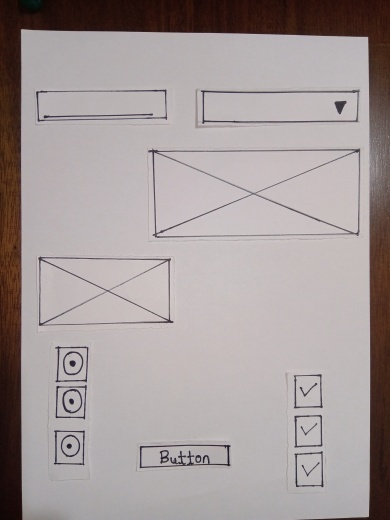button: (137, 446, 232, 470)
checkbox: (293, 374, 322, 406), (296, 454, 325, 486), (293, 414, 322, 446)
dropdown: (200, 93, 362, 120)
img: (151, 152, 360, 232), (37, 256, 173, 326)
radio: (58, 349, 88, 381), (56, 387, 86, 419), (55, 429, 85, 461)
text: (36, 90, 168, 116)
